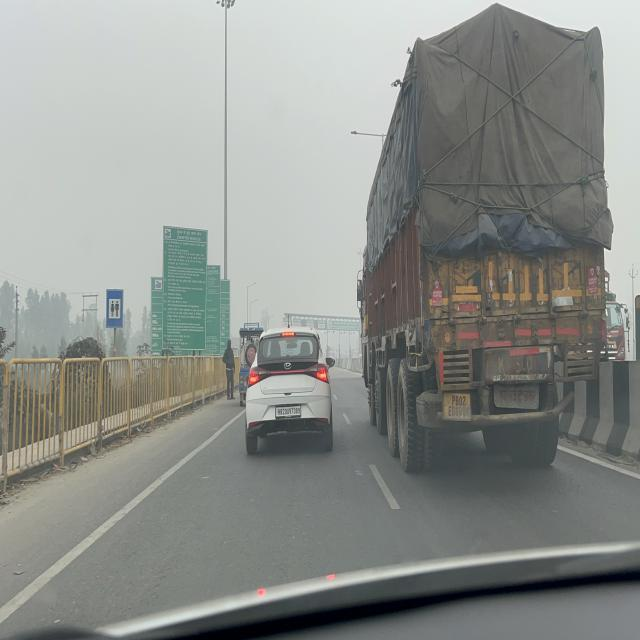GENERAL: (162, 225, 208, 351), (200, 264, 221, 356), (151, 276, 164, 361), (219, 278, 231, 356)
INFORMATION: (106, 289, 123, 328)
